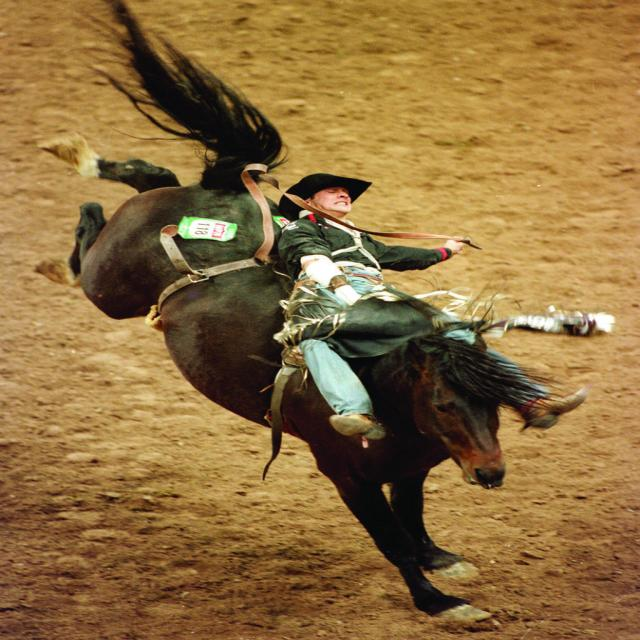Horse: (31, 0, 570, 633)
